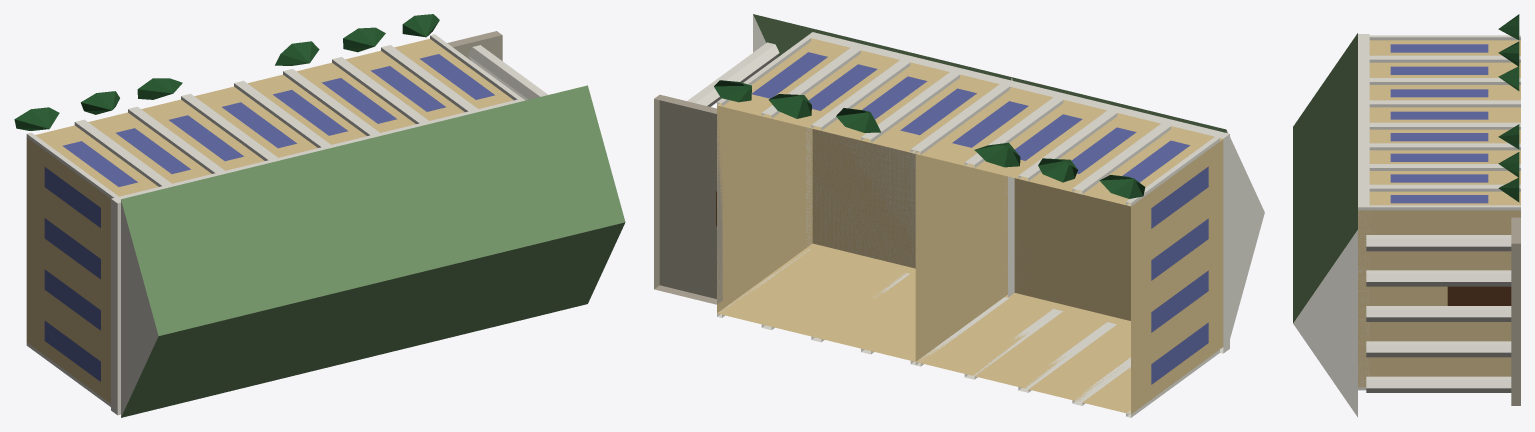
Rendered from complete.glb.
The picture shows the model from 3 angles, left to right: view 1: azimuth 30°, elevation 25°; view 2: azimuth 150°, elevation 25°; view 3: azimuth 270°, elevation 25°; orthographic projection. The views are drawn at different scales.
Visible parts, largest first — view 1: t00_g58.003, t10_g59.003; view 2: t10_g59.003, t00_g58.003; view 3: t10_g59.003, t00_g58.003.
Boxes of the visible parts, bbox=[...] form: t00_g58.003: bbox=[14, 78, 370, 417]; t10_g59.003: bbox=[239, 14, 625, 365]; t10_g59.003: bbox=[654, 14, 1014, 365]; t00_g58.003: bbox=[915, 77, 1264, 417]; t10_g59.003: bbox=[1293, 122, 1520, 417]; t00_g58.003: bbox=[1293, 14, 1520, 215].
Bounding box in the file's own units: 29.61 × 14.13 × 14.
